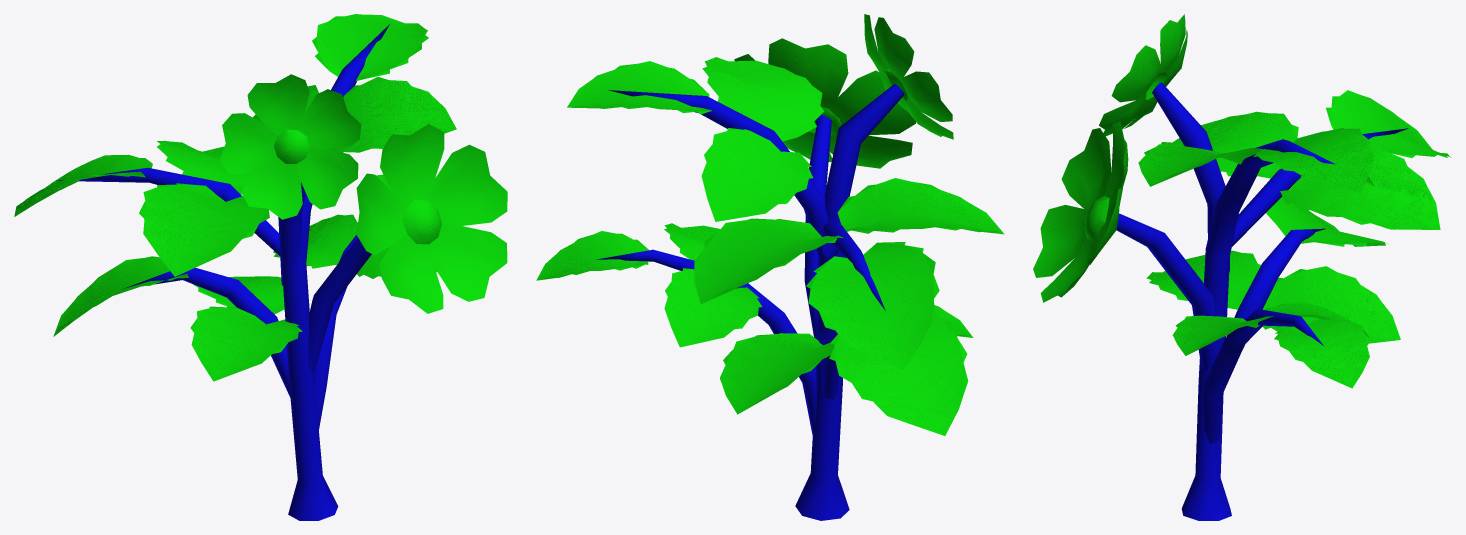
File: Strawberry_3.fbx
3 views of the same model, side by side, from view 1: azimuth 30°, elevation 25°; view 2: azimuth 150°, elevation 25°; view 3: azimuth 270°, elevation 25° (orthographic). The views are drawn at different scales.
Parts seen in each view (by area): view 1: BSTC_StrawBerry_3; view 2: BSTC_StrawBerry_3; view 3: BSTC_StrawBerry_3.
Part boxes in pixels (bbox=[...]): BSTC_StrawBerry_3: bbox=[14, 14, 507, 520]; BSTC_StrawBerry_3: bbox=[536, 14, 1004, 520]; BSTC_StrawBerry_3: bbox=[1033, 14, 1451, 520].
Size of the model in its own units: 59.2 by 65.81 by 52.7.
